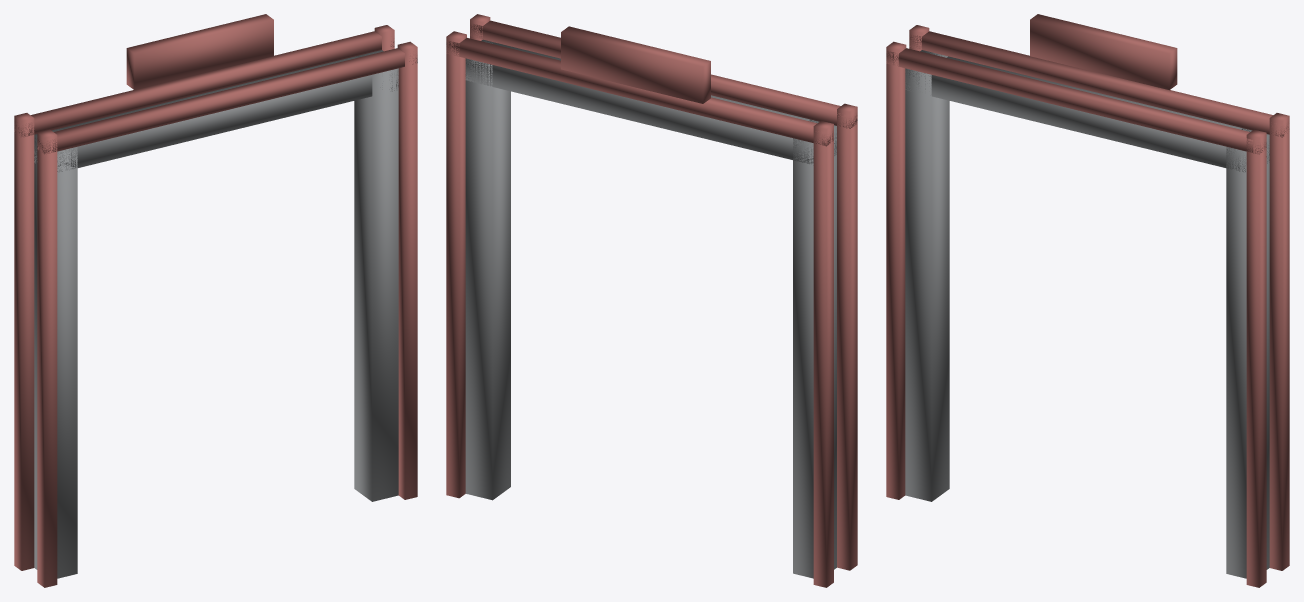
File: doorway_emergency_exit_w152_h200_d16.glb
3 renders of one model, left to right at view 1: azimuth 30°, elevation 25°; view 2: azimuth 150°, elevation 25°; view 3: azimuth 330°, elevation 25°, orthographic.
Visible parts, largest first — view 1: world; view 2: world; view 3: world.
Boxes of the visible parts, x1,y1,x2,y2 form: world: (14, 14, 417, 587); world: (446, 14, 857, 587); world: (886, 14, 1289, 587).
Bounding box in the file's own units: 1.92 × 2.4 × 0.3108.
